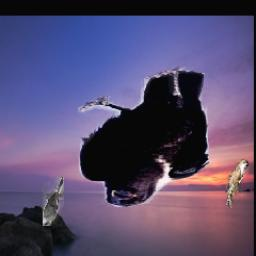Crow: (78, 68, 212, 208)
Cuckoo: (225, 160, 247, 209), (43, 178, 64, 227)
